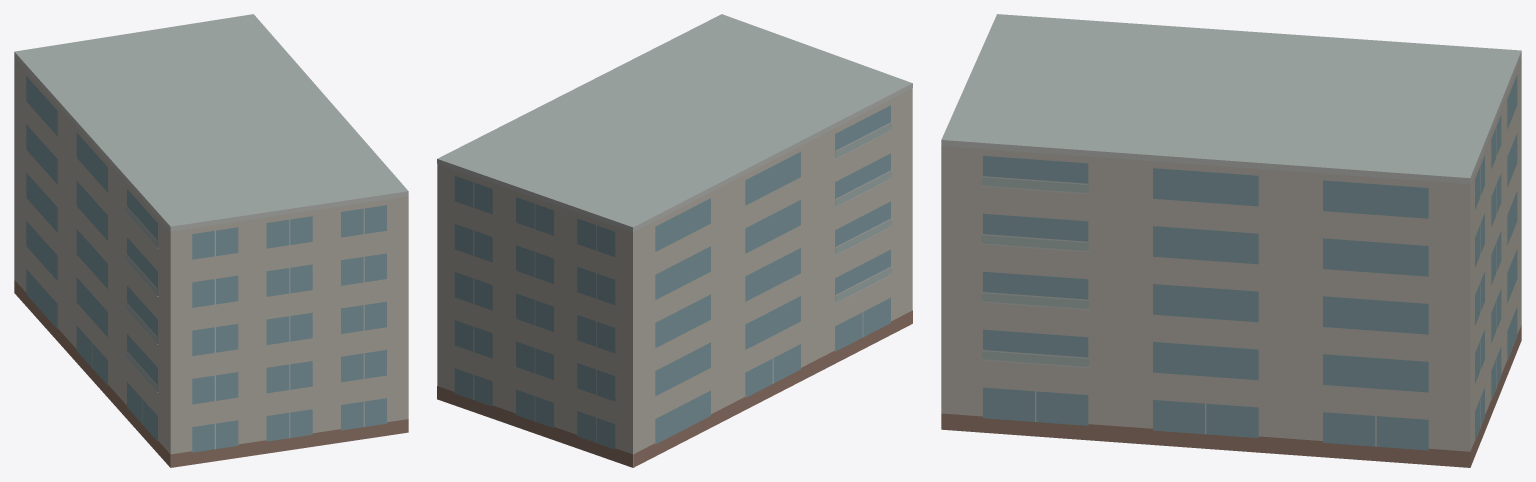
The model's file is survey-upis-32919860.glb.
3 views of the same model, side by side, from view 1: azimuth 30°, elevation 25°; view 2: azimuth 150°, elevation 25°; view 3: azimuth 270°, elevation 25° (orthographic). The views are drawn at different scales.
Parts seen in each view (by area): view 1: survey-upis-32919860.tmp; view 2: survey-upis-32919860.tmp; view 3: survey-upis-32919860.tmp.
Part boxes in pixels (x1,y1,x2,y2): survey-upis-32919860.tmp: (14, 14, 408, 467); survey-upis-32919860.tmp: (437, 14, 912, 467); survey-upis-32919860.tmp: (941, 14, 1521, 467).
Bounding box in the file's own units: 14.35 × 11.8 × 21.44.
